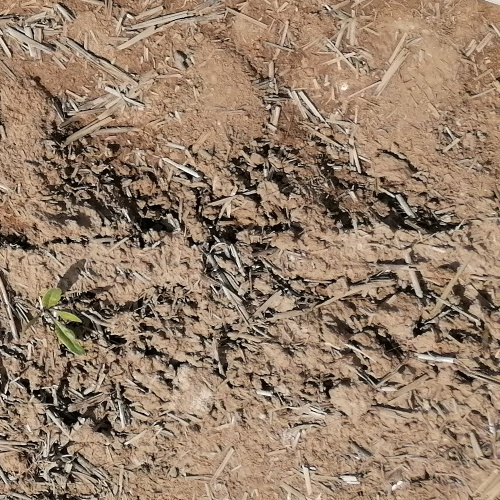beet: (35, 289, 86, 357)
